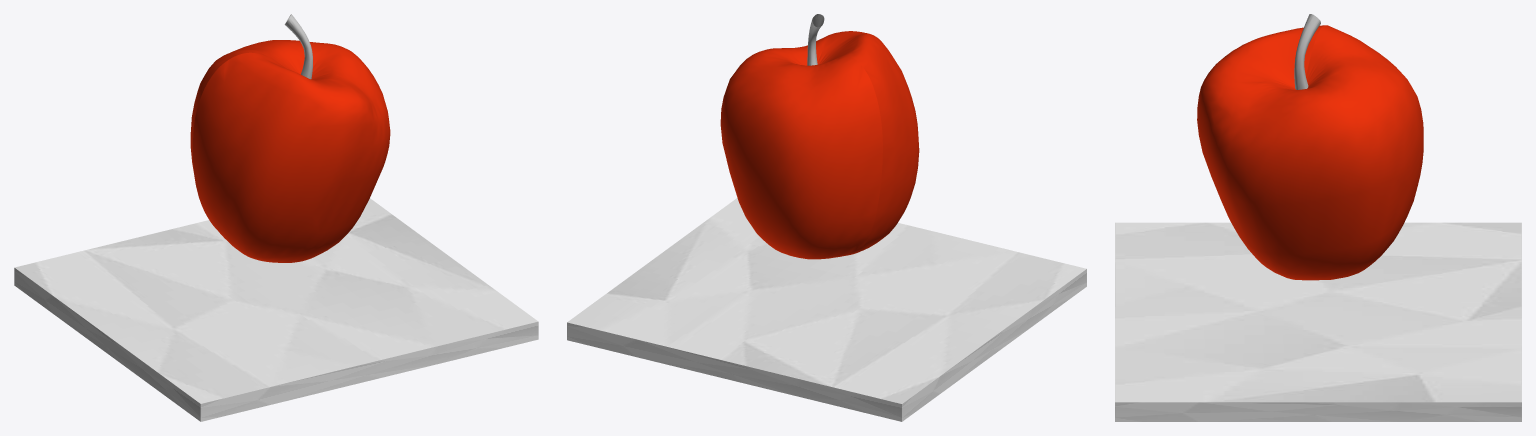
File: manzana.DAE
3 renders of one model, left to right at view 1: azimuth 30°, elevation 25°; view 2: azimuth 150°, elevation 25°; view 3: azimuth 270°, elevation 25°, orthographic. The views are drawn at different scales.
Visible parts, largest first — view 1: Box001, ______05; view 2: Box001, ______05; view 3: Box001, ______05.
Boxes of the visible parts, x1,y1,x2,y2 form: Box001: (14, 198, 538, 421); ______05: (190, 14, 390, 262); Box001: (567, 198, 1086, 421); ______05: (720, 14, 919, 259); Box001: (1115, 222, 1521, 421); ______05: (1197, 14, 1423, 280).
Bounding box in the file's own units: 132 × 126 × 111.
3 materials, 1 textured.
